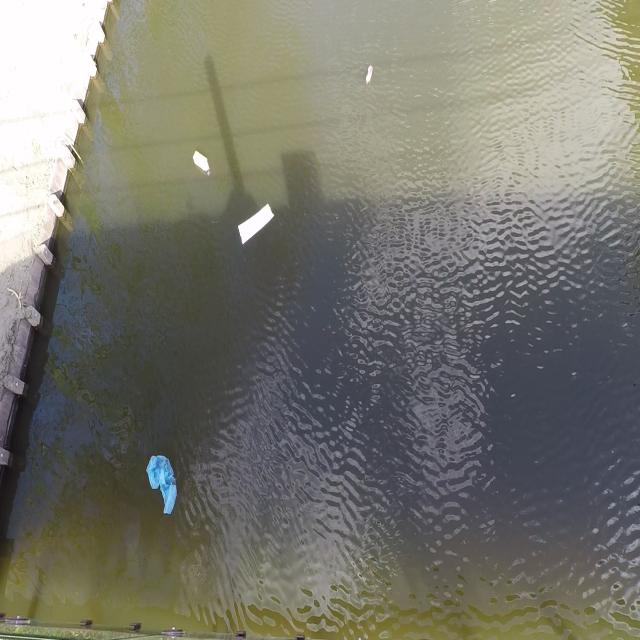Autre plastique: (236, 193, 276, 248)
Non plastique: (188, 145, 214, 178)
Sac plastique: (143, 449, 181, 526)
